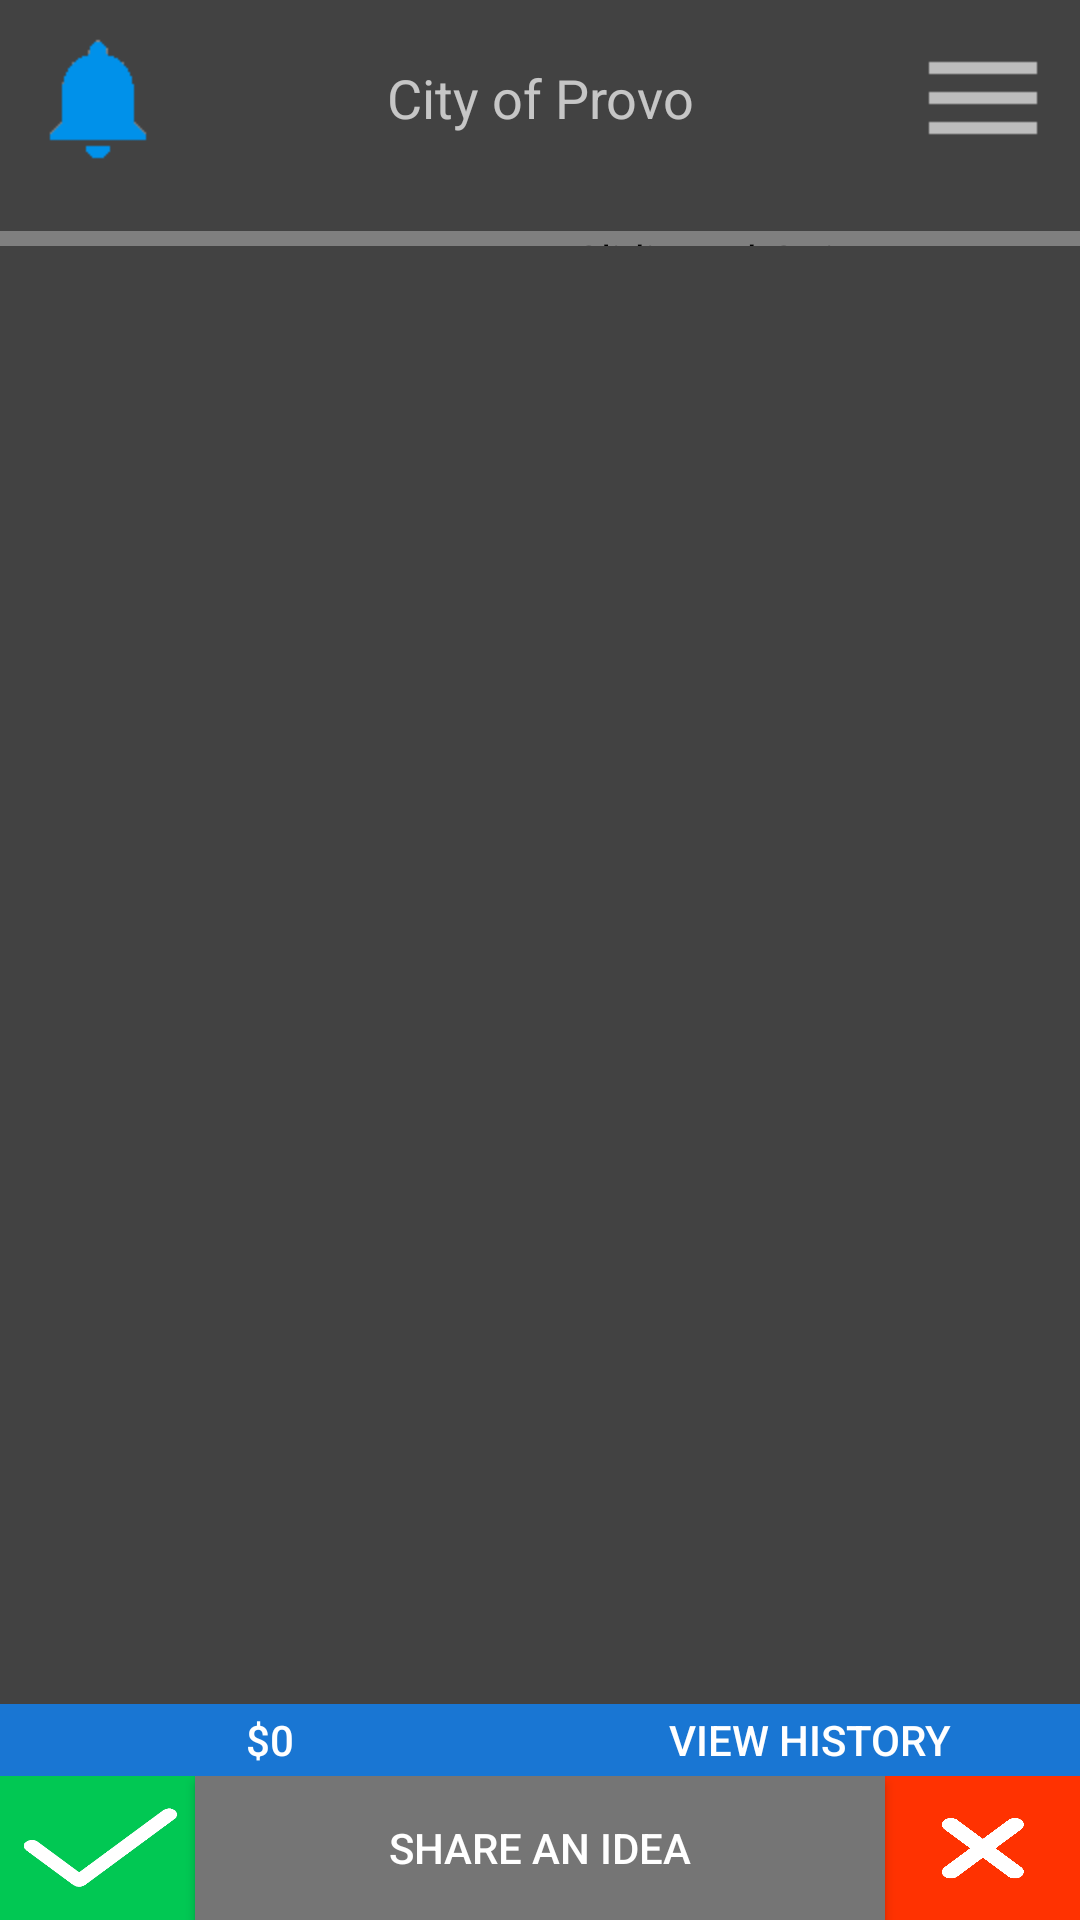

Named icons in this screenshot (1080x1920) and their centers, (x,y):
in favor of: (97,1848)
menu: (983,98)
not in favor of: (982,1848)
notifications: (98,99)
